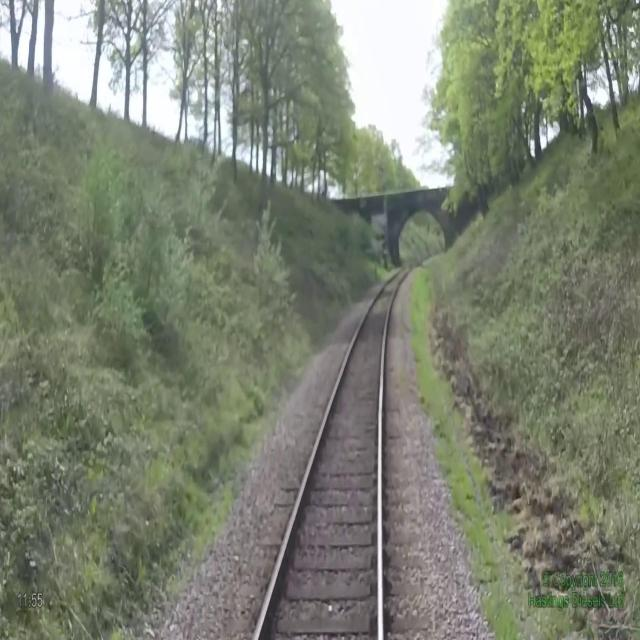rail-track: (258, 257, 420, 639)
